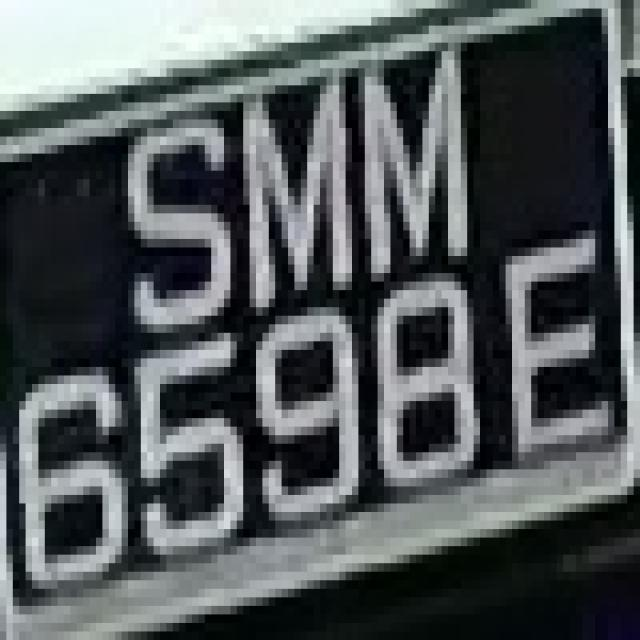5: (122, 307, 256, 555)
6: (6, 342, 134, 614)
8: (358, 256, 486, 495)
9: (237, 299, 371, 529)
E: (493, 213, 614, 470)
M: (230, 77, 365, 324), (358, 25, 474, 282)
S: (103, 77, 250, 350)
